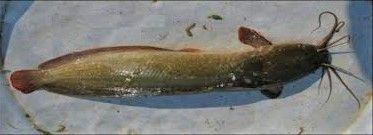Catfish: (10, 24, 332, 110)
